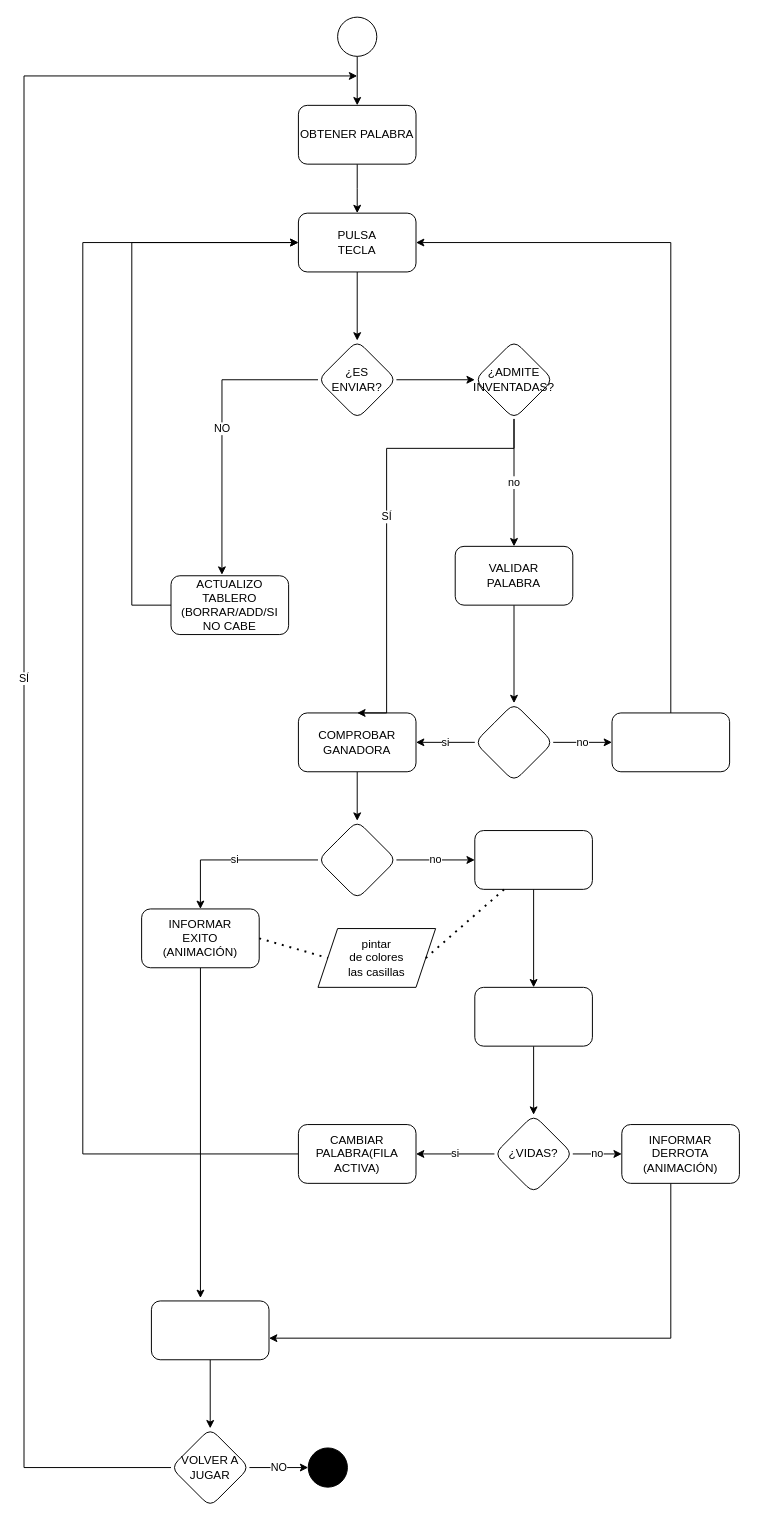
Some shapes in this 757 by 1524 pixel diagram are drawn without their labels. Each missing label, with the centre of its shape:
"EXISTE" goes at [513,742].
"GANADORA" goes at [356,859].
"INFORMAR FRACASO (ACTUALIZAR TABLERO)" goes at [533,859].
"INFORMAR PALABRA NO VALIDA" goes at [670,742].
"MOSTRAR RESULTADOS ESTADÍSTICAS" goes at [209,1330].
"RESTO INTENTOS" goes at [533,1016].
